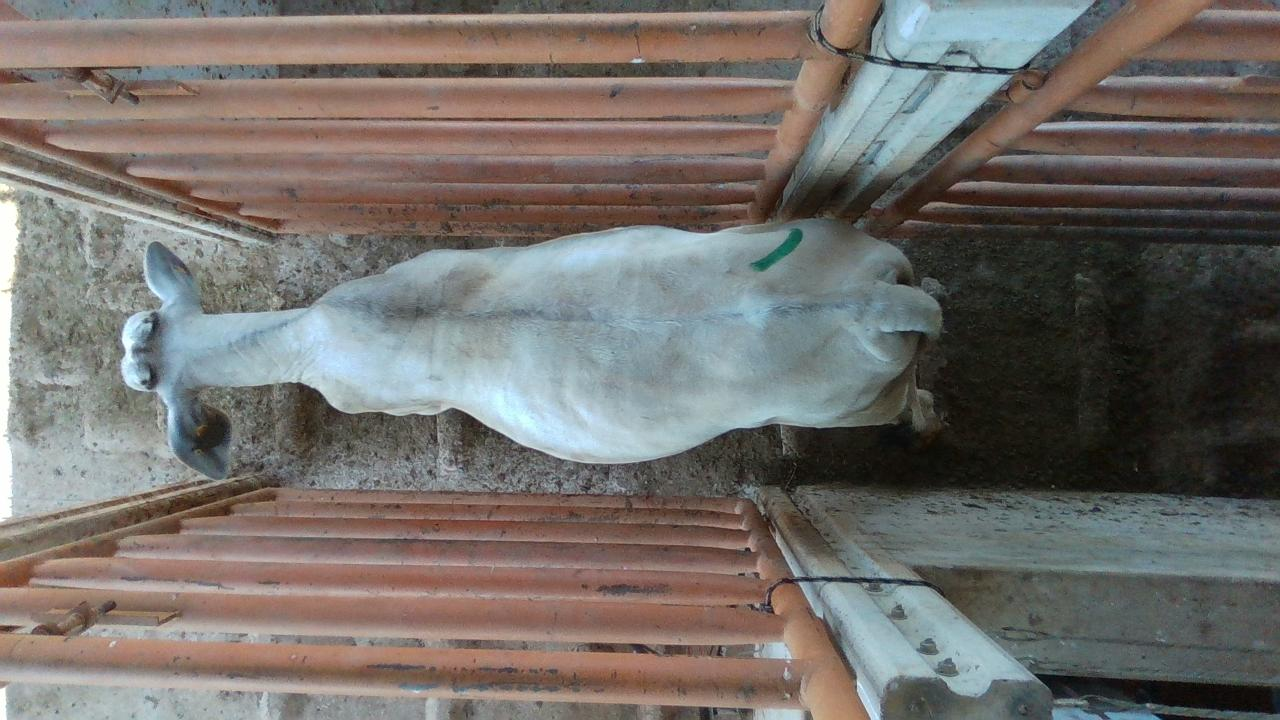cattle: (119, 214, 946, 479)
